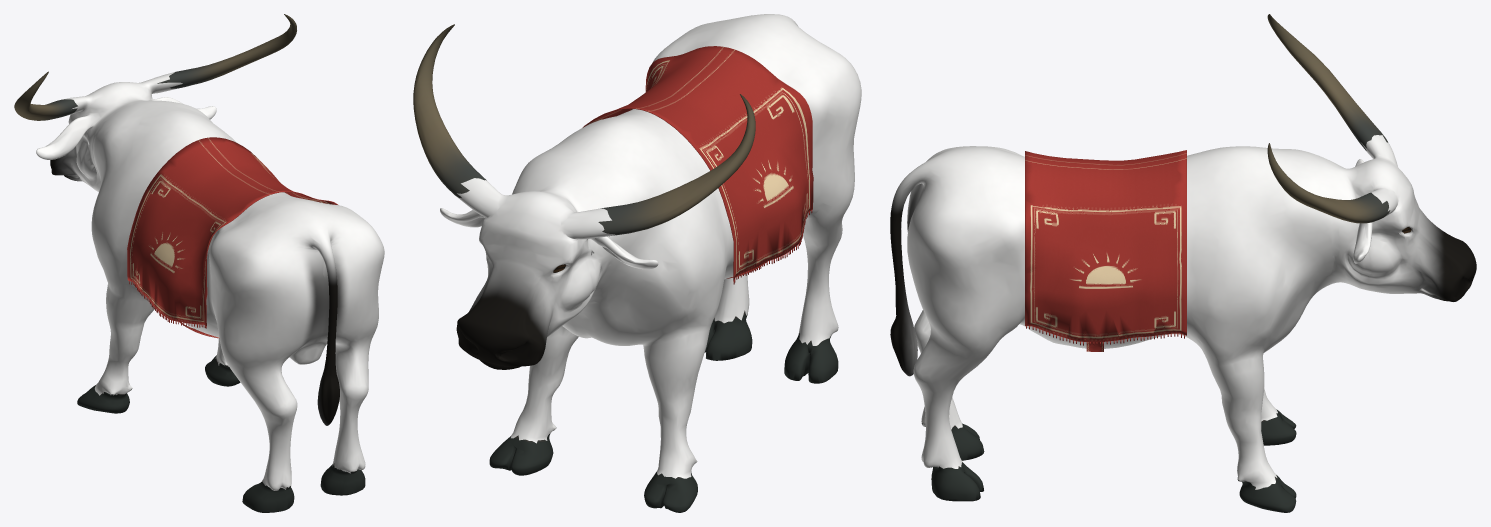
Rendered from buffalo_hero.glb.
The picture shows the model from 3 angles, left to right: view 1: azimuth 30°, elevation 25°; view 2: azimuth 150°, elevation 25°; view 3: azimuth 270°, elevation 25°; orthographic projection. The views are drawn at different scales.
Parts seen in each view (by area): view 1: HeroBody, FACTION_Cloth_and_Belt; view 2: HeroBody, FACTION_Cloth_and_Belt; view 3: HeroBody, FACTION_Cloth_and_Belt.
Part boxes in pixels (x1,y1,x2,y2): HeroBody: (14, 14, 384, 512); FACTION_Cloth_and_Belt: (127, 137, 337, 338); HeroBody: (413, 14, 861, 512); FACTION_Cloth_and_Belt: (582, 46, 813, 284); HeroBody: (890, 14, 1476, 512); FACTION_Cloth_and_Belt: (1025, 150, 1186, 351).
Size of the model in its own units: 1.73 by 2.12 by 2.86.
4 materials, 4 textured.
